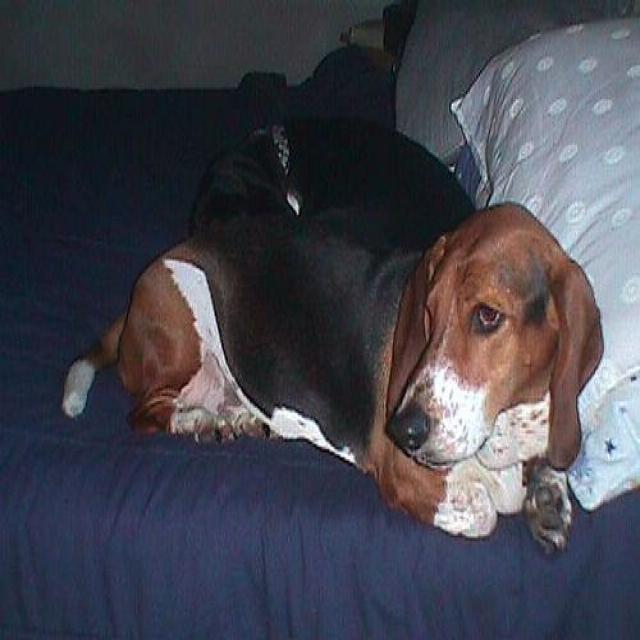basset: (63, 203, 605, 560)
